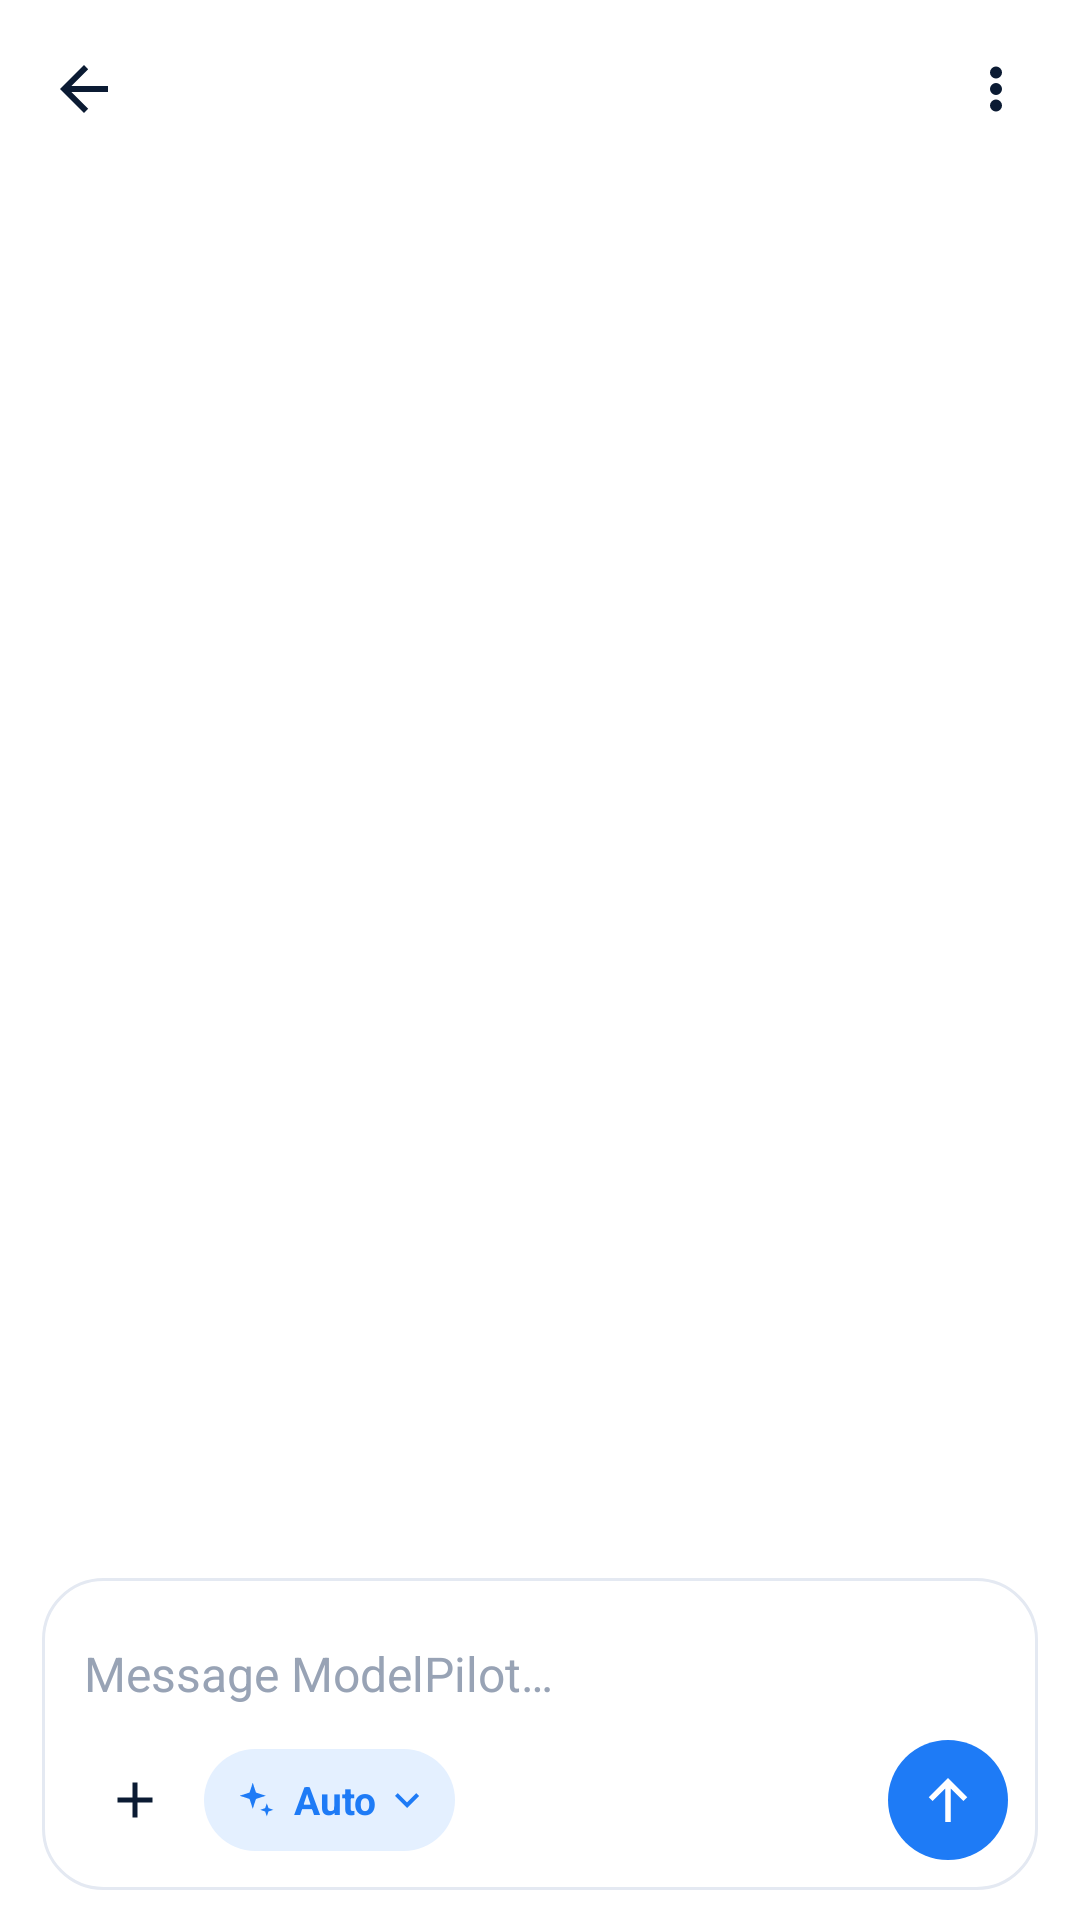

Icon click points for this 1080px x 1920px phone screenshot, format (x,y):
Attach: (135,1800)
Back to chats: (84,89)
chevron down: (407,1800)
More options: (996,89)
Send: (948,1800)
sparkle: (256,1799)
